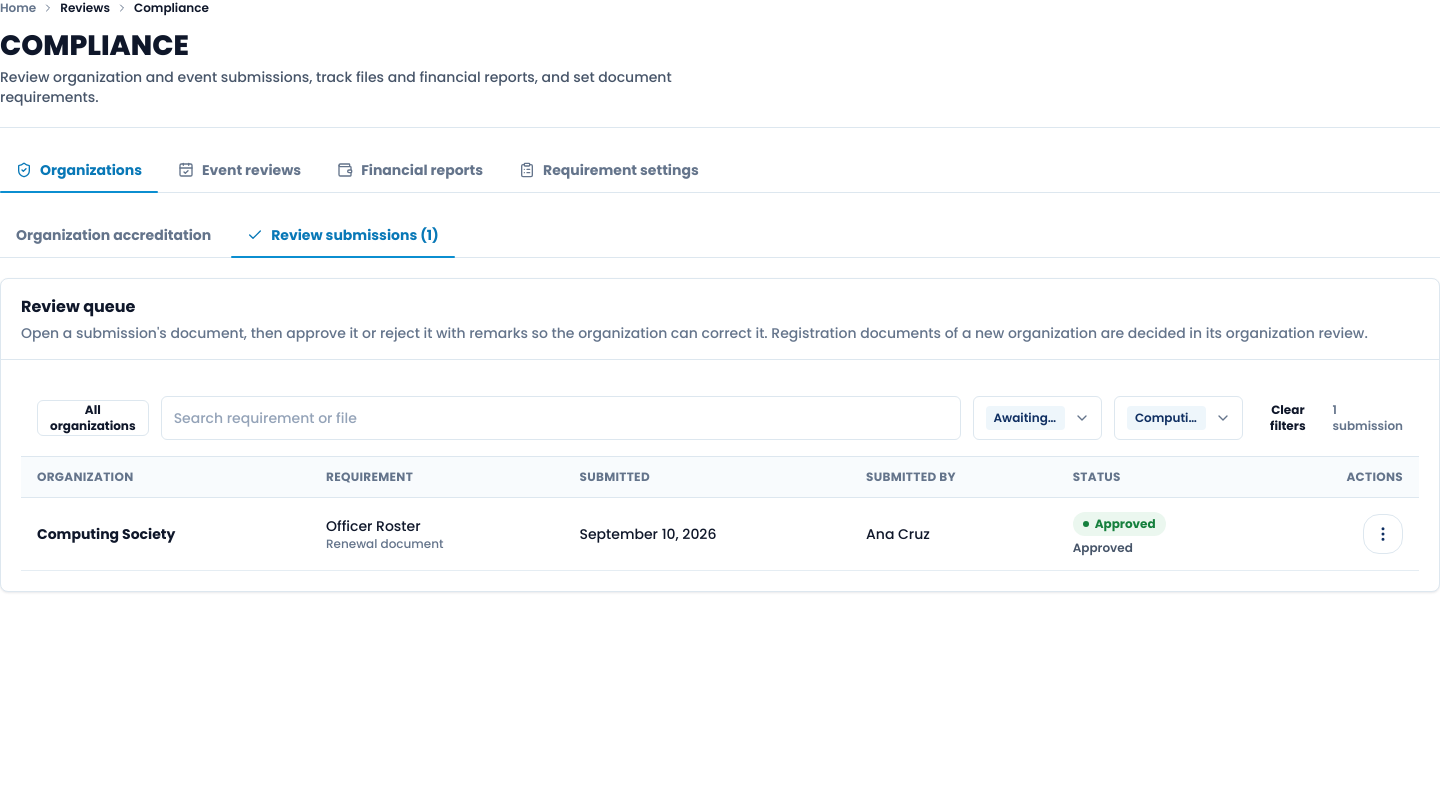
Test: SaoCompliancePage review queue › opens the drawer from a row, and shows an approved submission as done with no review buttons
The width and height of the screenshot is (1440, 810).
Click the button "Computing Society": coordinates (106, 534) [37,524,175,544]
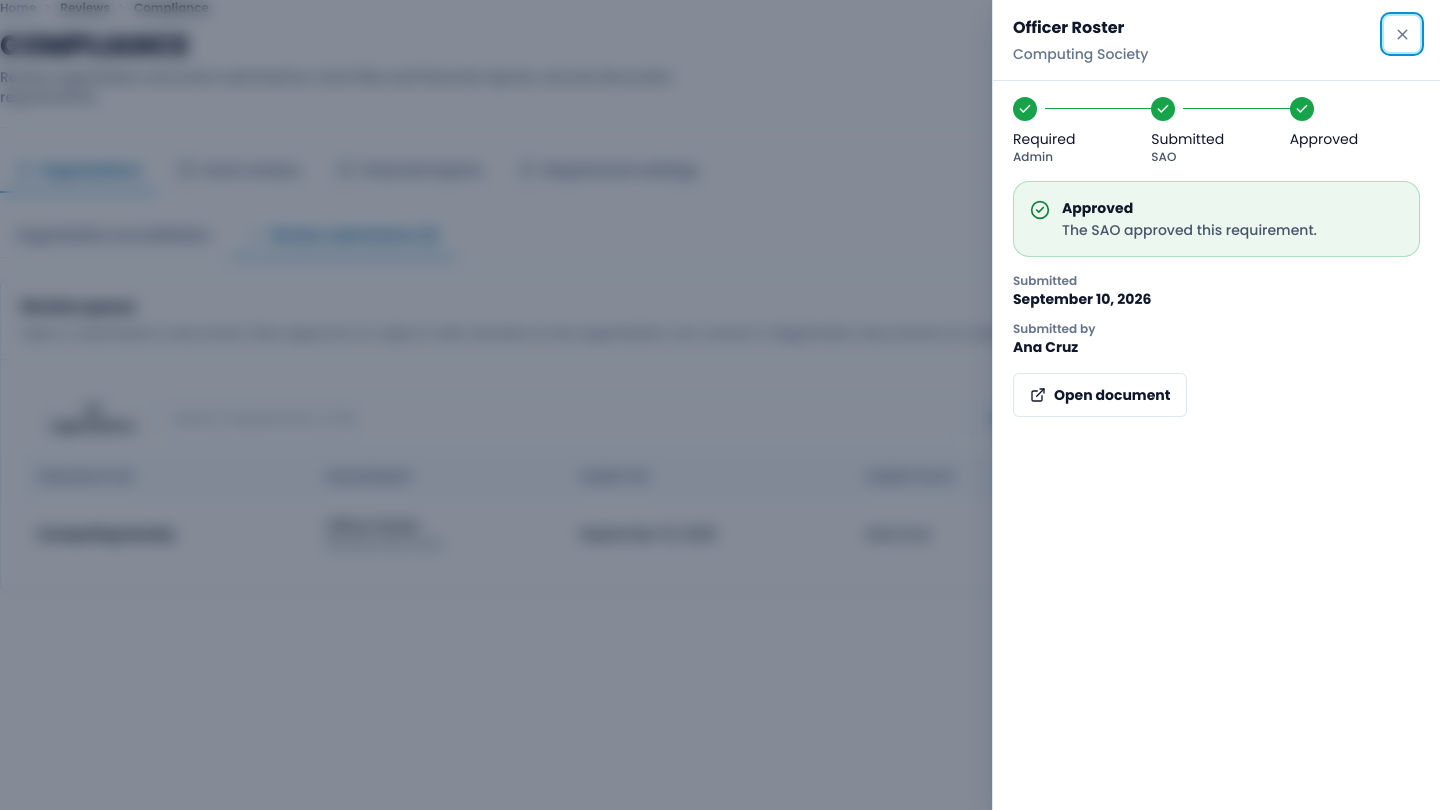
Expected: the text "Approved" is shown, [1289,128,1358,149]
